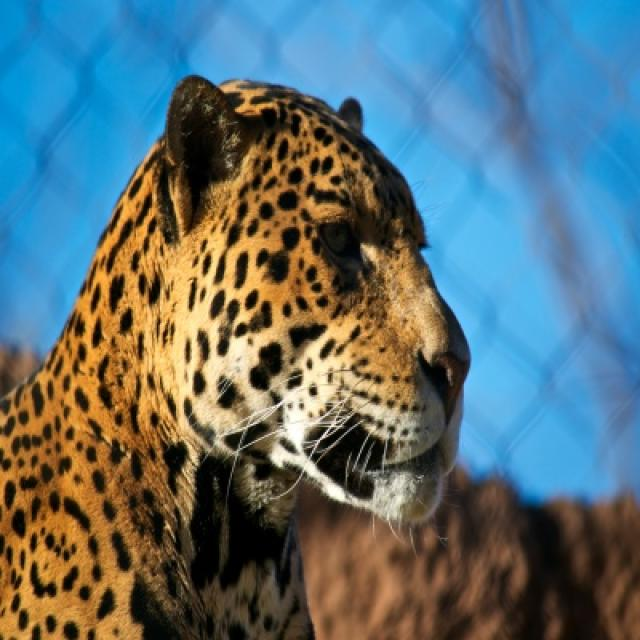Jaguar: (0, 75, 470, 638)
